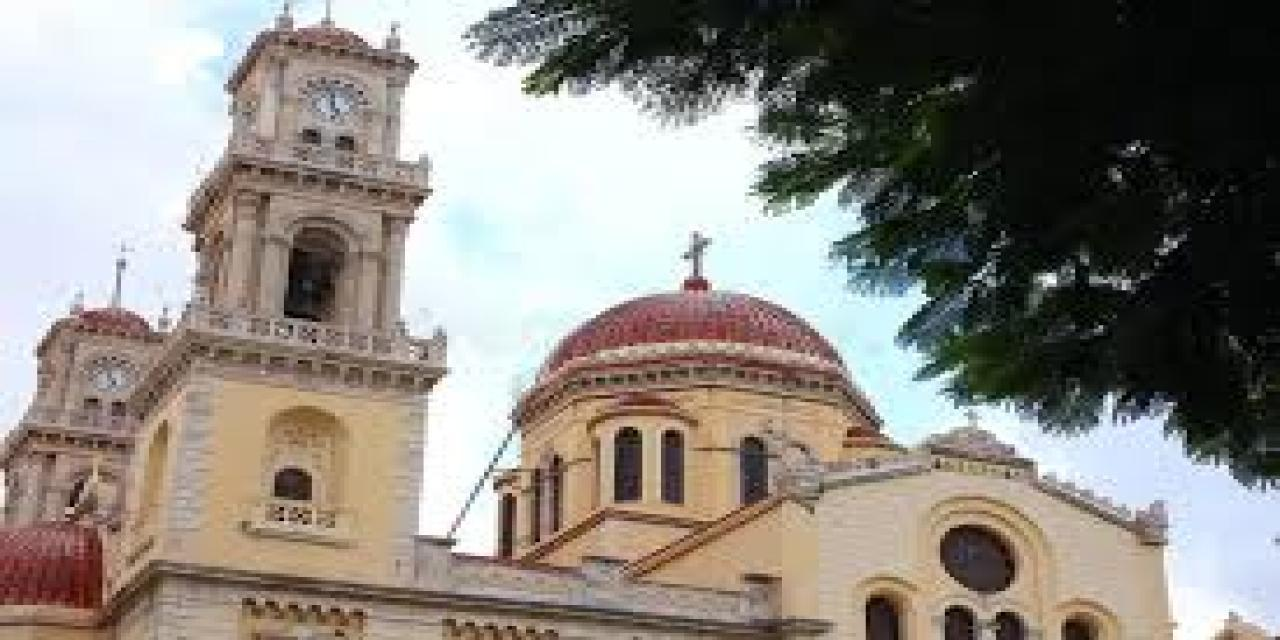Agios Minas: (3, 1, 1170, 640)
